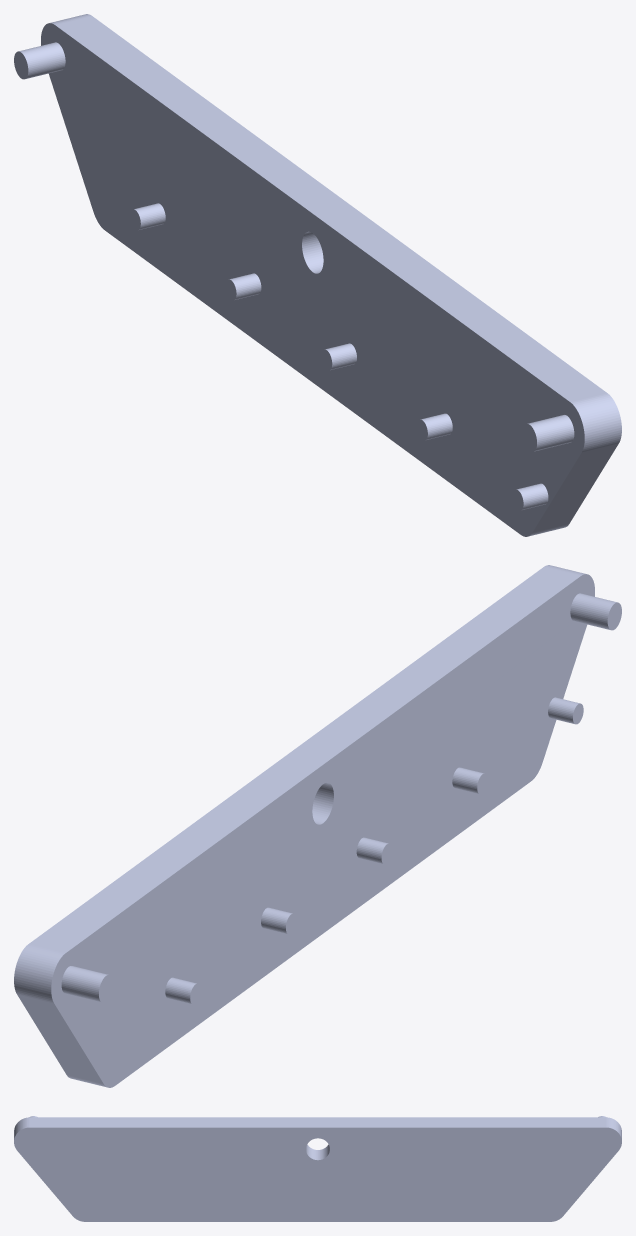
File: Lado_DerechoV1.2.dae
3 renders of one model, top to bottom at view 1: azimuth 30°, elevation 25°; view 2: azimuth 150°, elevation 25°; view 3: azimuth 270°, elevation 25°, orthographic. The views are drawn at different scales.
Parts seen in each view (by area): view 1: ID2; view 2: ID2; view 3: ID2.
Part boxes in pixels (<box>): ID2: <box>14,14,621,536</box>; ID2: <box>14,565,621,1087</box>; ID2: <box>14,1116,621,1221</box>.
Size of the model in its own units: 0.06 by 0.7588 by 0.13.
